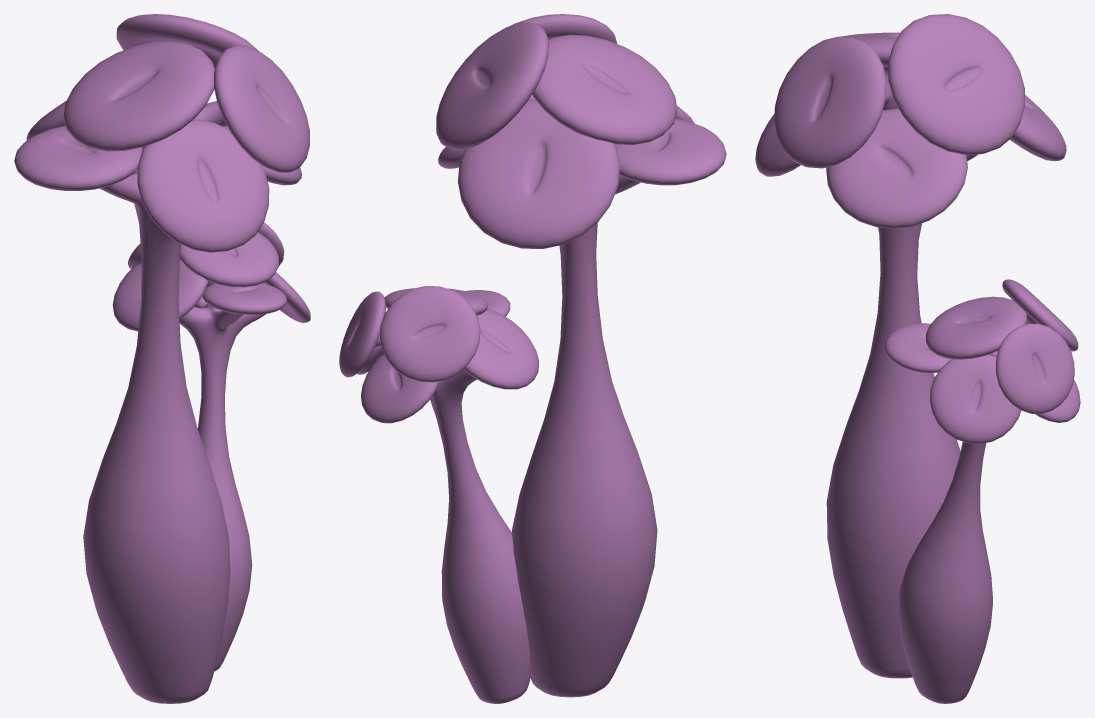
The model's file is Vase mushroom.fbx.
3 views of the same model, side by side, from view 1: azimuth 30°, elevation 25°; view 2: azimuth 150°, elevation 25°; view 3: azimuth 270°, elevation 25° (orthographic).
Parts seen in each view (by area): view 1: Cylinder, Cylinder.001; view 2: Cylinder, Cylinder.001; view 3: Cylinder, Cylinder.001.
Boxes of the visible parts, x1,y1,x2,y2 form: Cylinder: (14,14,309,703); Cylinder.001: (112,222,310,671); Cylinder: (436,14,726,697); Cylinder.001: (339,286,539,703); Cylinder: (755,14,1066,678); Cylinder.001: (884,279,1080,703).
Size of the model in its own units: 96.08 by 193 by 85.78.
